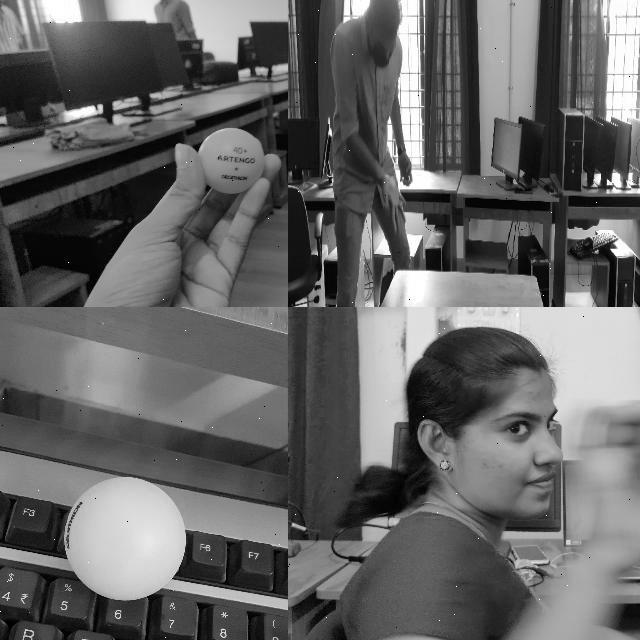ping-pong-ball: (64, 476, 184, 606), (196, 128, 264, 192), (388, 176, 396, 192)
